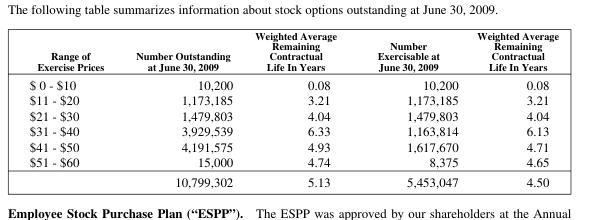table: (28, 28, 558, 188)
table column: (119, 28, 243, 188), (243, 28, 356, 188), (356, 28, 466, 188), (466, 28, 558, 188), (28, 28, 119, 188)
table column header: (28, 28, 558, 74)
table row: (28, 28, 558, 74), (28, 74, 558, 92), (28, 154, 558, 171), (28, 171, 558, 188), (28, 107, 558, 123), (28, 138, 558, 154), (28, 92, 558, 107), (28, 123, 558, 138)
